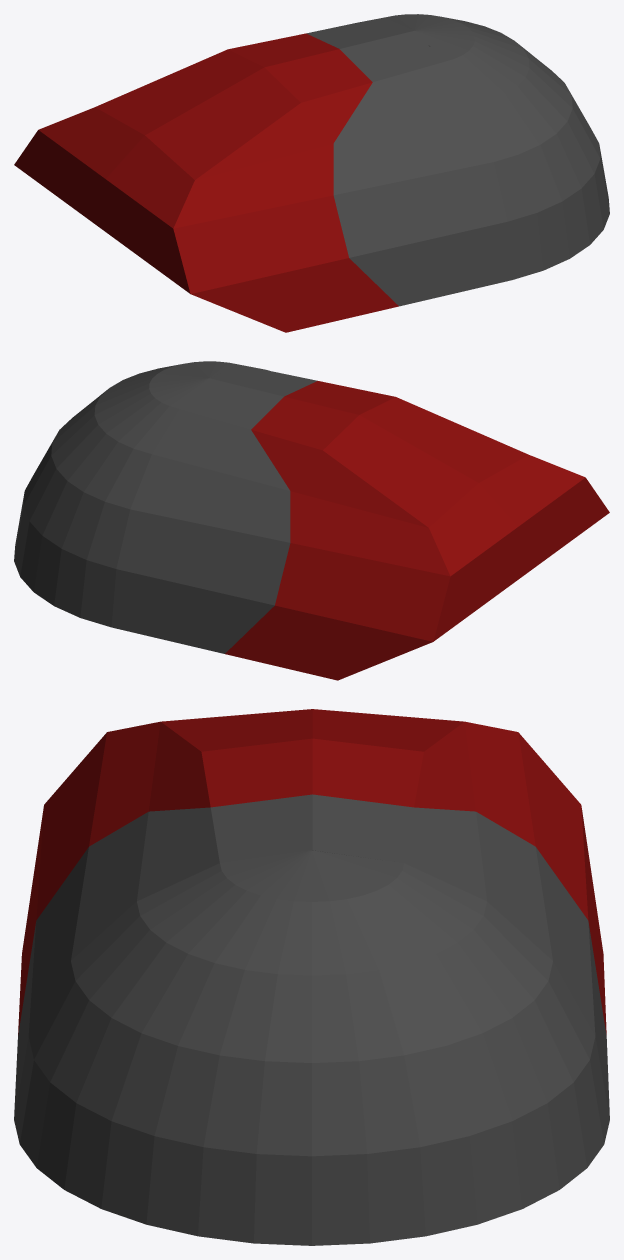
File: Turret-Complete.fbx
3 views of the same model, one above another, from view 1: azimuth 30°, elevation 25°; view 2: azimuth 150°, elevation 25°; view 3: azimuth 270°, elevation 25° (orthographic). The views are drawn at different scales.
Visible parts, largest first — view 1: Sphere; view 2: Sphere; view 3: Sphere.
Part boxes in pixels (x1,y1,x2,y2): Sphere: (14, 14, 609, 332); Sphere: (14, 361, 609, 680); Sphere: (14, 709, 609, 1245).
Bounding box in the file's own units: 4.61 × 1.62 × 3.25.
